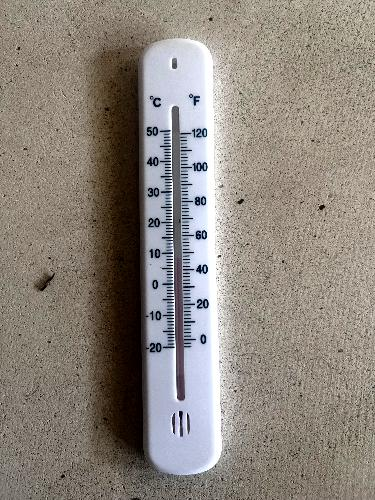thermo: (138, 44, 224, 475)
